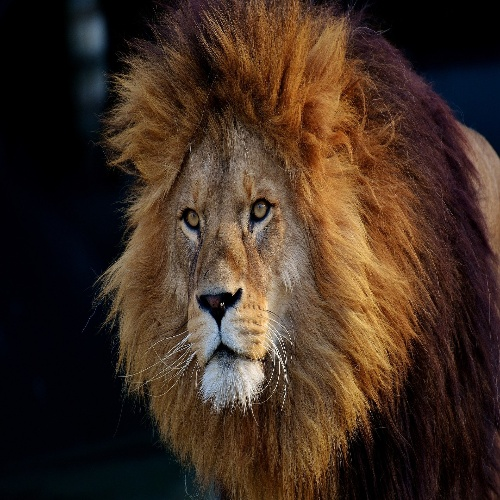lion: (79, 1, 493, 494)
